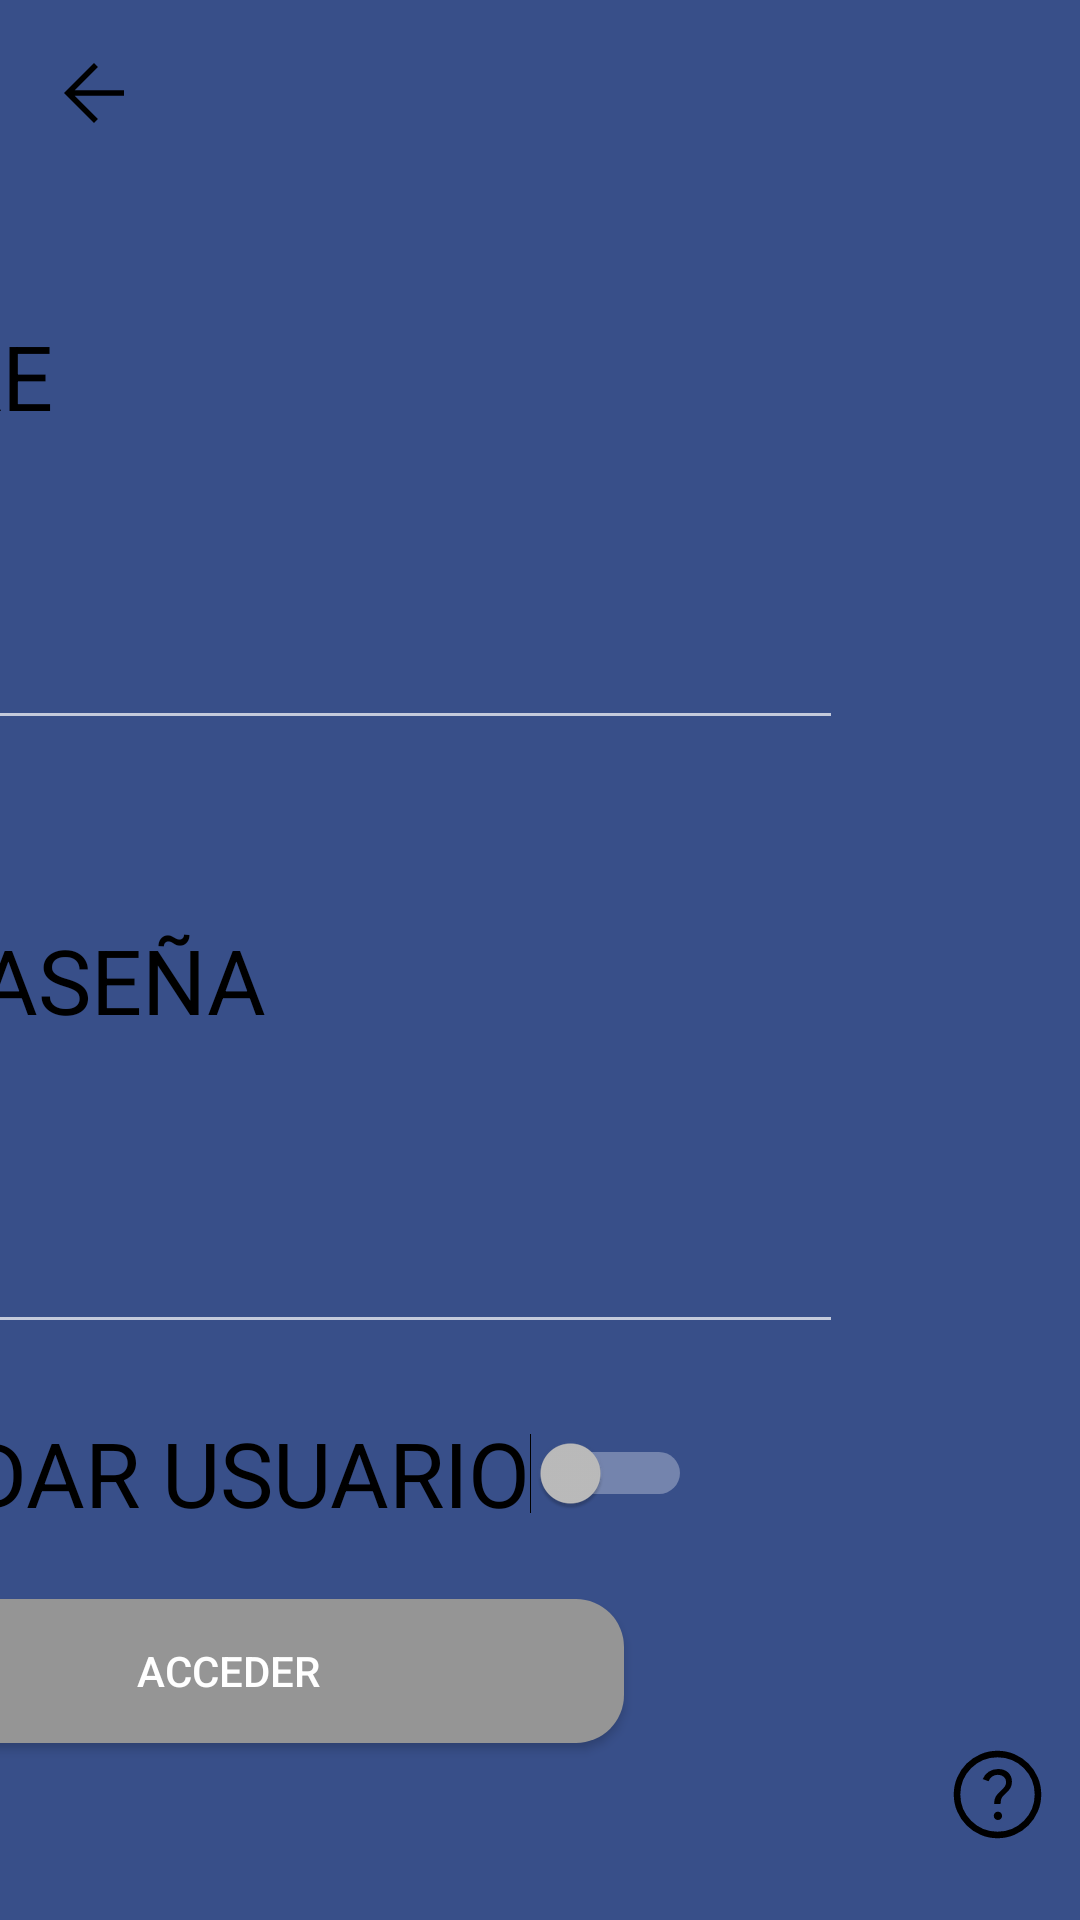

Icons on this 1080*1920 Android screen, each with the point to tap as [x,y]:
arrow back android: [94,93]
help: [997,1794]
